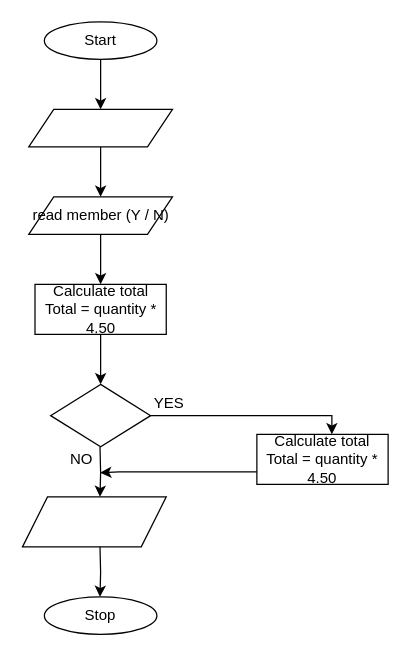
This 410x656 diagram has some shape labels left out. Each missing label, with the box of its shape:
Display amount to pay (RM total): (21, 496, 166, 547)
member = Y?: (49, 383, 151, 447)
read quantity: (28, 108, 172, 147)
